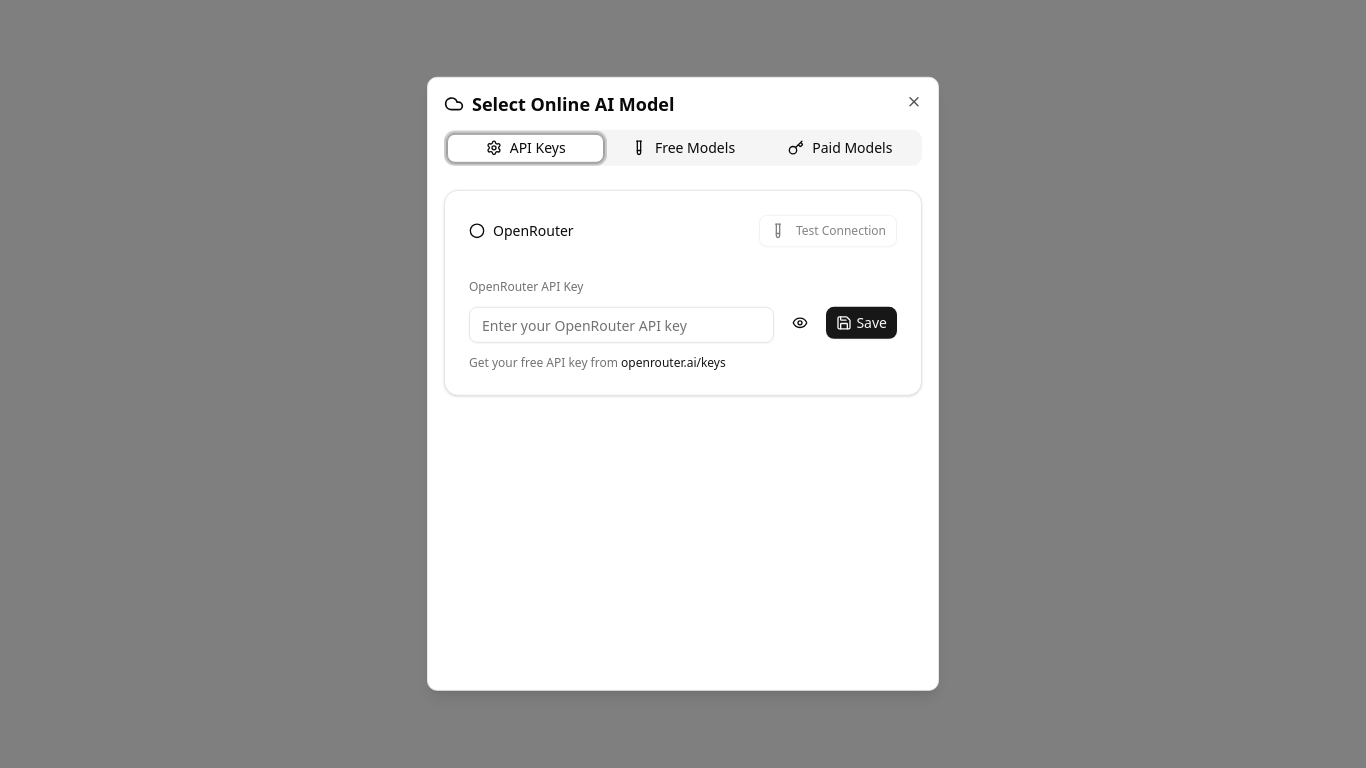
Test case: OnlineModelDialog › shows loading state
This screenshot has width=1366, height=768.
Click the tab "Free Models": point(683, 148) [604,133,762,162]
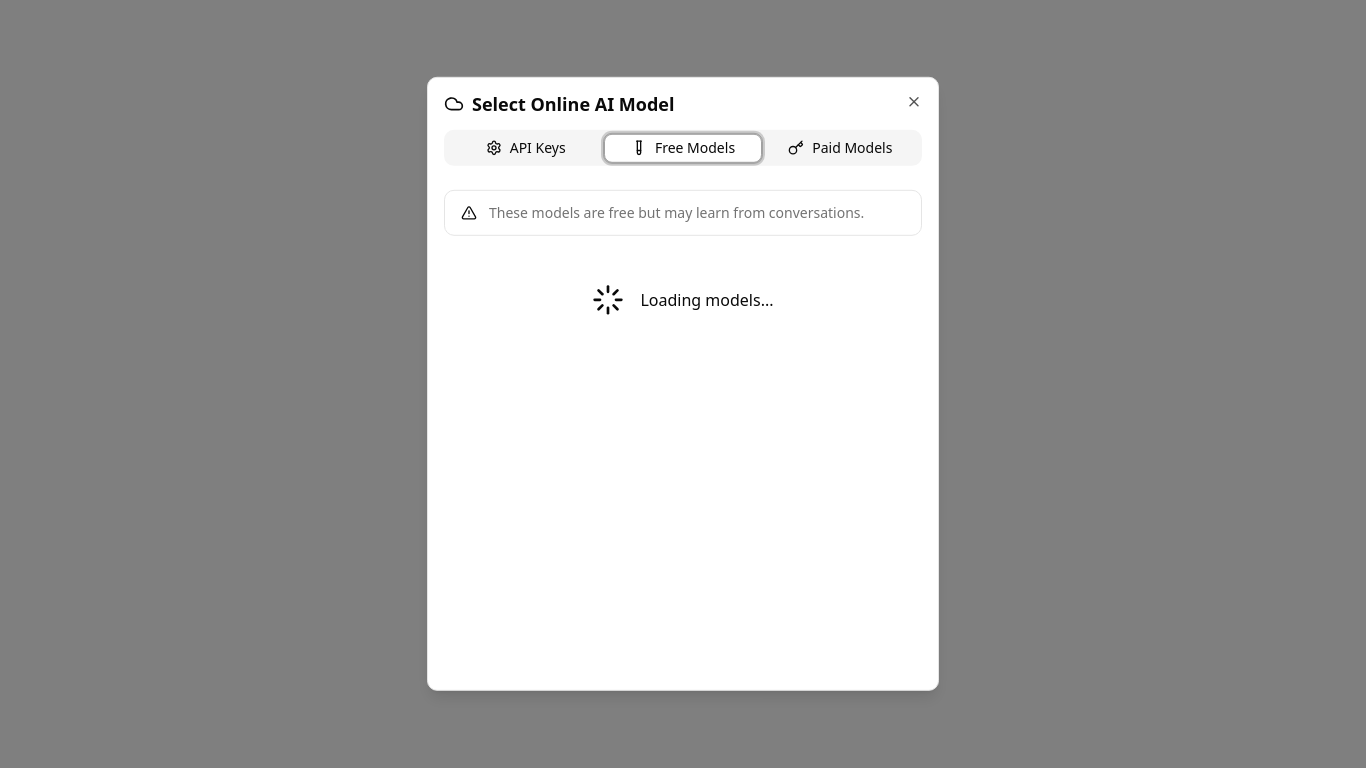
Expected: the text "Loading models..." is shown, [640,288,774,312]
